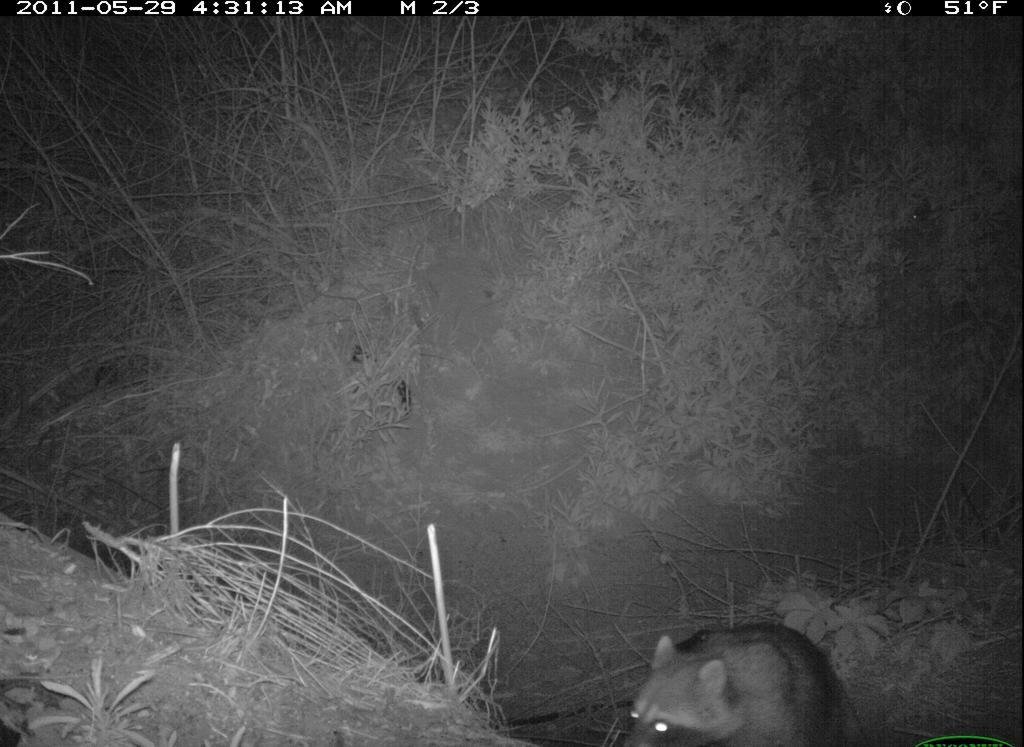raccoon: (623, 616, 876, 745)
